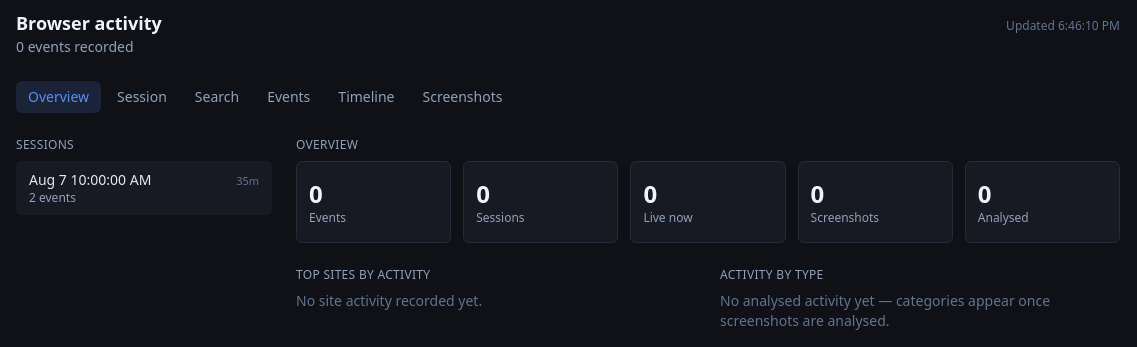
Test case: timeline view › explains when no activities have been generated
Check: the text "0 events recorded" is shown, box [16,37,134,56]
Click the button "Timeline": (366, 97) [326,81,406,113]
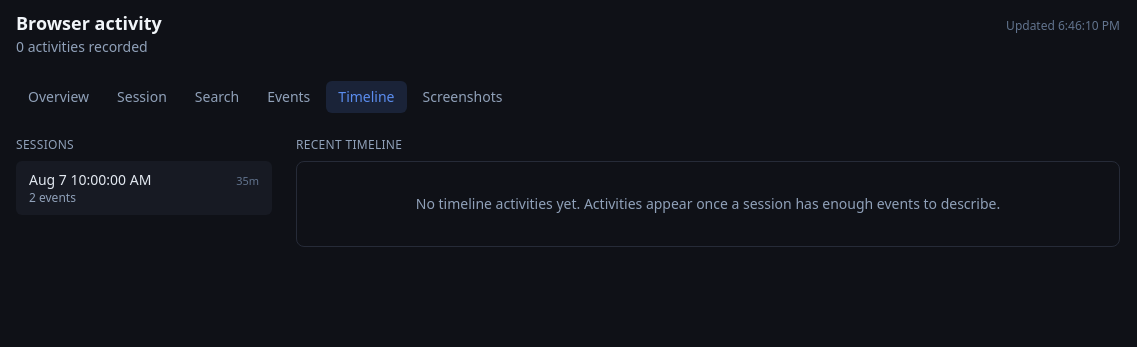
Check: the text "No timeline activities yet" is shown, box [416,194,1000,213]
